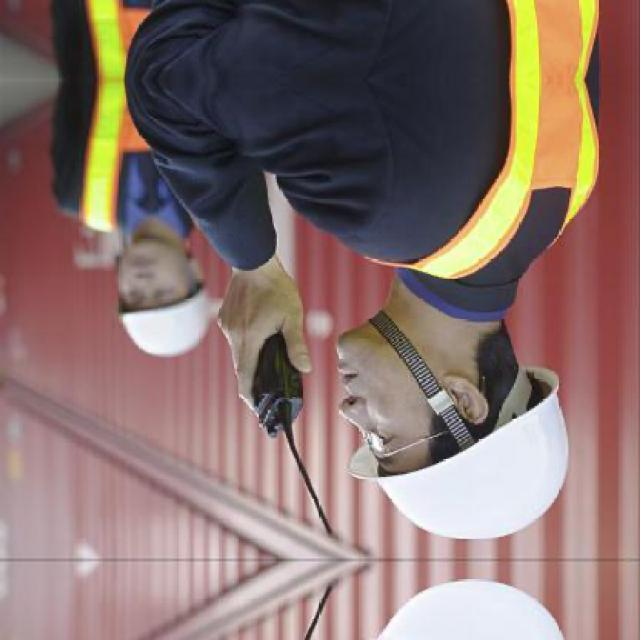con casco: (246, 261, 586, 535), (102, 222, 236, 370)
